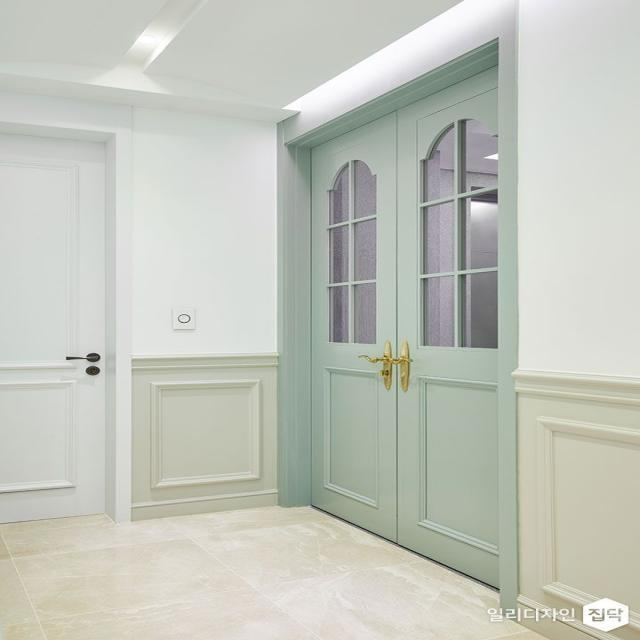door: (306, 48, 508, 592), (0, 126, 111, 524)
